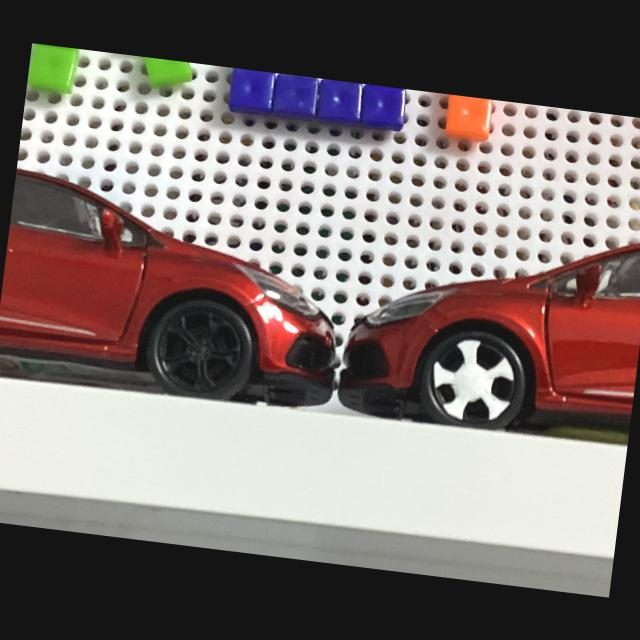Dogru_Jant: (156, 306, 244, 394)
Yanlis_Jant: (427, 334, 520, 428)
